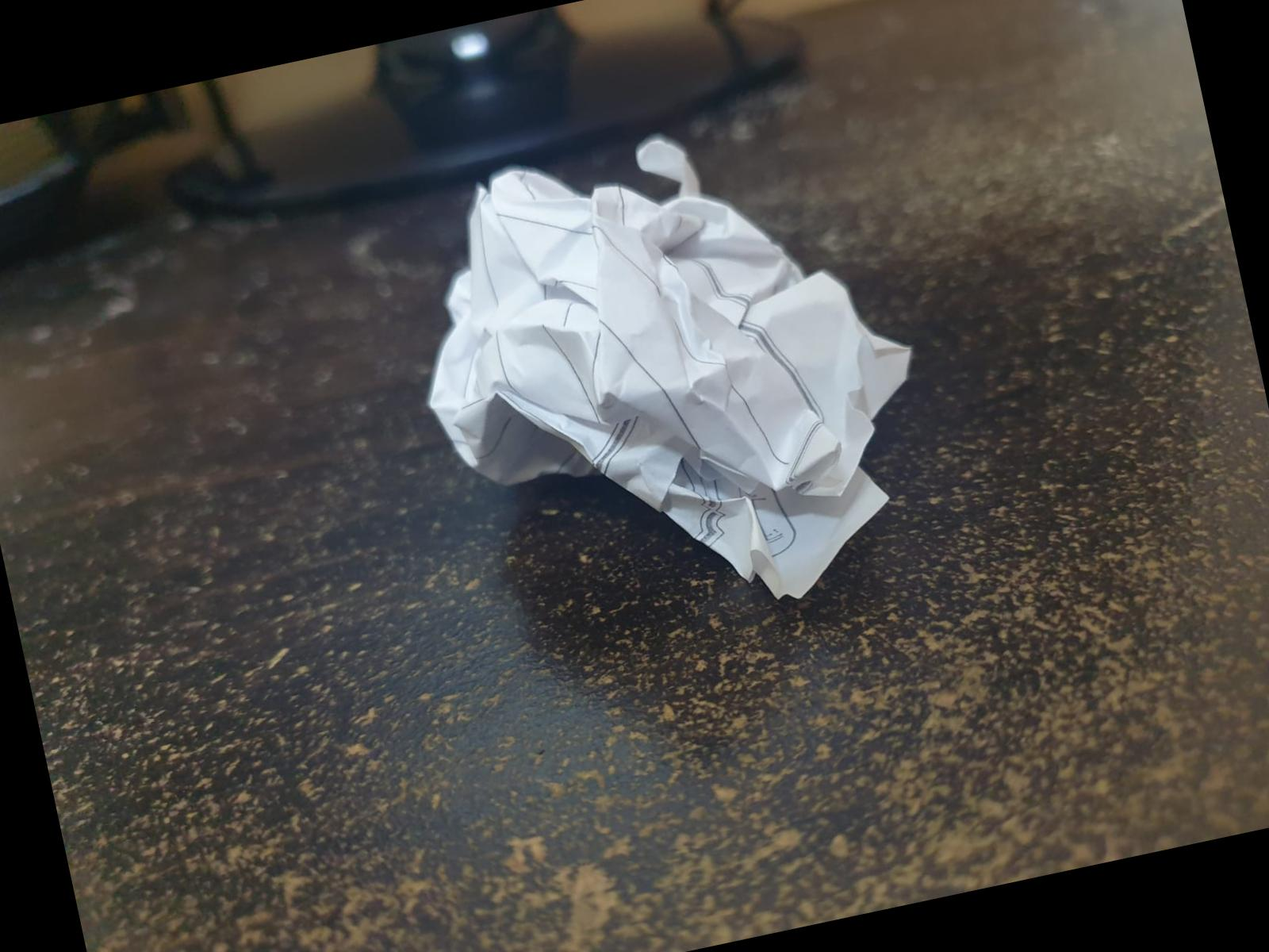Kertas: (428, 176, 900, 595)
